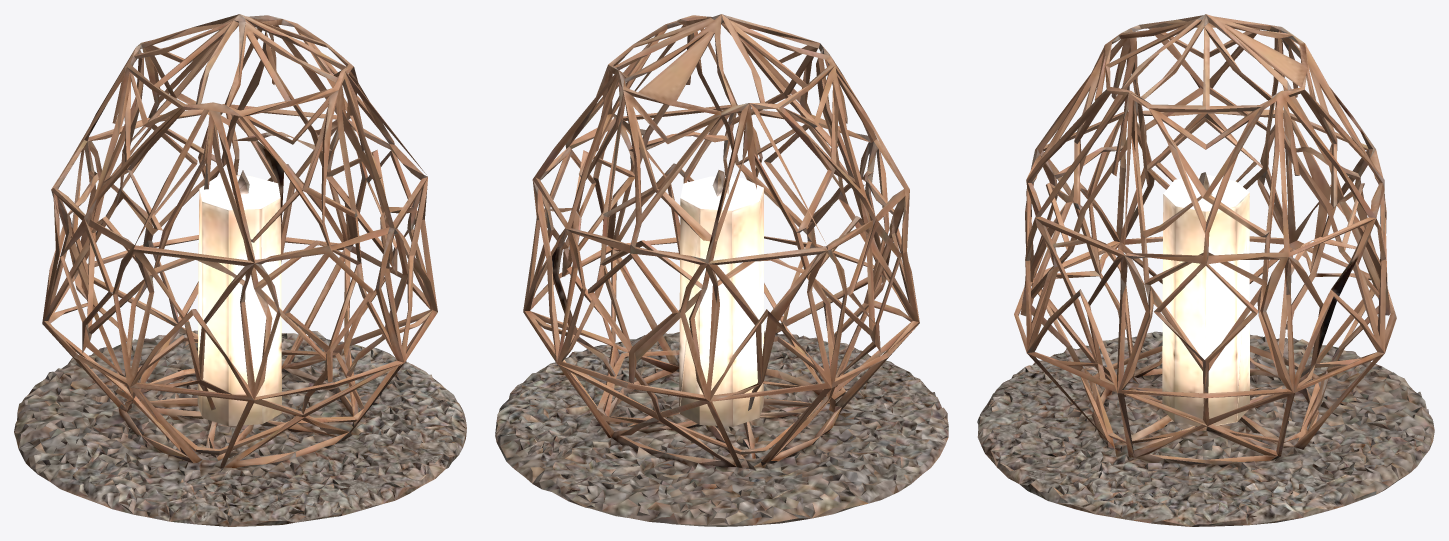
Rendered from lantern.glb.
3 renders of one model, left to right at view 1: azimuth 30°, elevation 25°; view 2: azimuth 150°, elevation 25°; view 3: azimuth 270°, elevation 25°, orthographic.
Size of the model in its own units: 1.83 by 1.89 by 1.85.
Materials: 1 (1 with a texture image).
